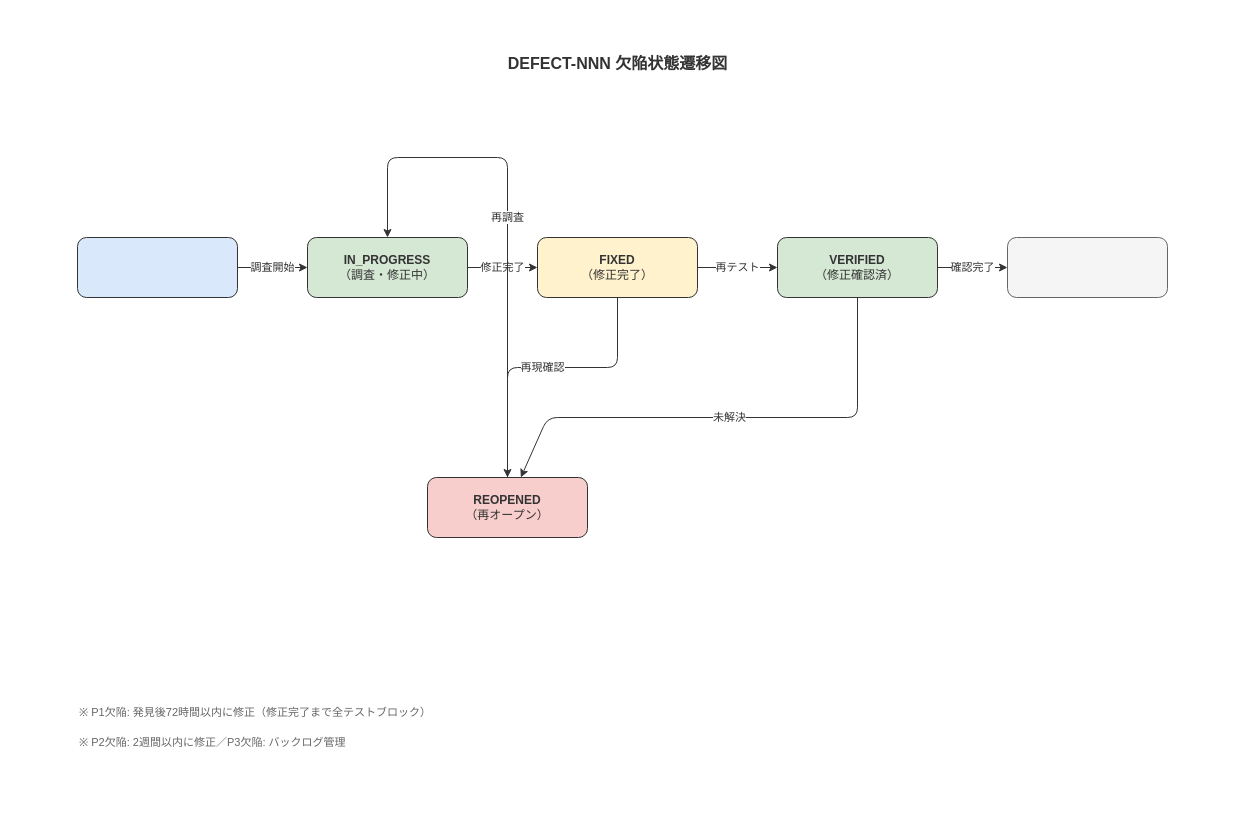
Some shapes in this 1234 by 834 pixel diagram are drawn without their labels. The centre of each missing label's shape, as x and y in pixels:
CLOSED （クローズ）: [1087,267]
OPEN （発見・起票）: [157,267]
